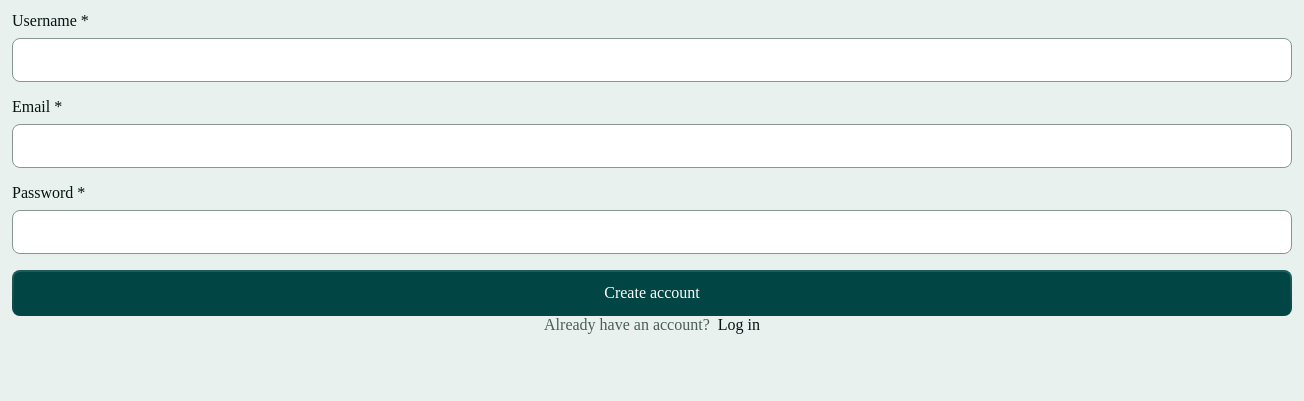
Sign up flow › shows the better auth error message and does not redirect the user
The image size is (1304, 401).
In the field labelled "Username *": x=652, y=60 [12,38,1292,82], type "valid user"
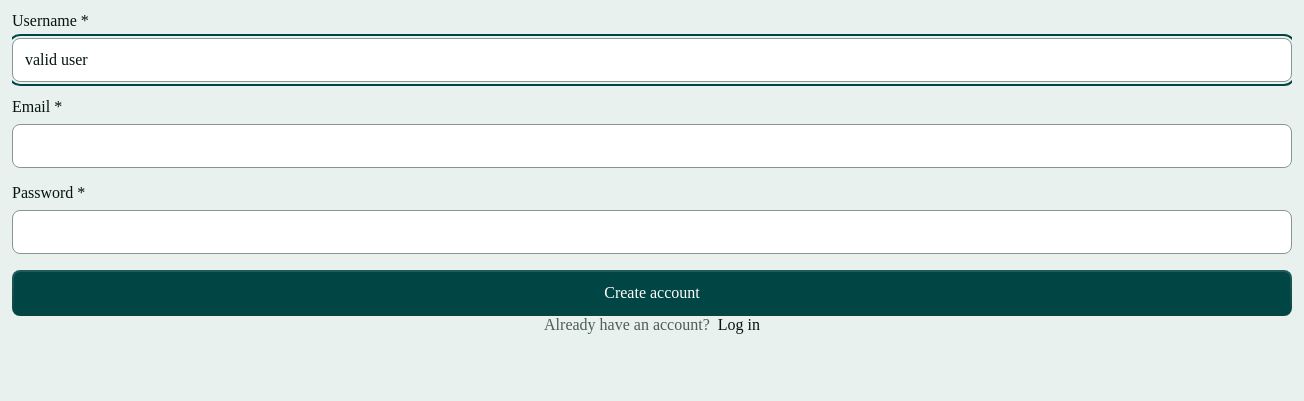
In the field labelled "Email *": x=652, y=146 [12,124,1292,168], type "valid@email.com"
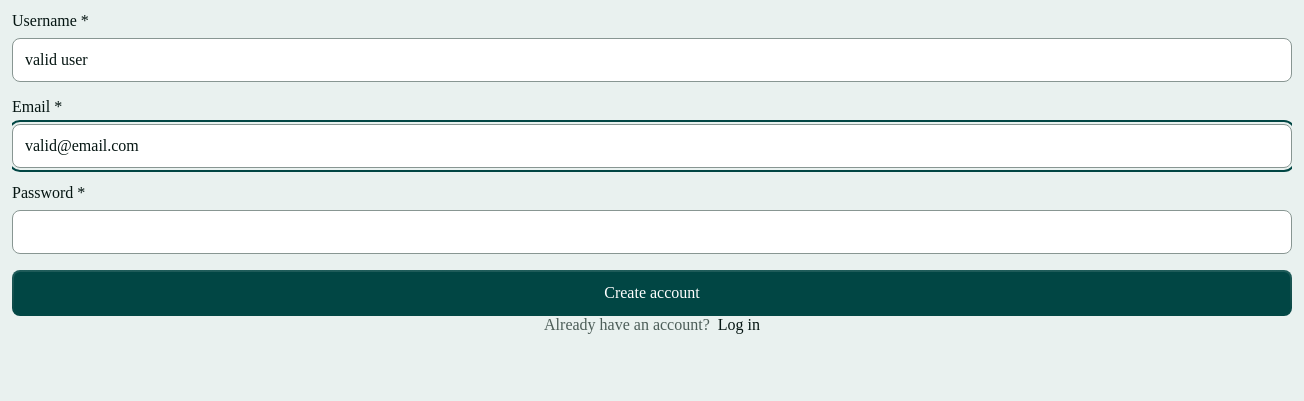
In the password field labelled "Password *": x=652, y=232 [12,210,1292,254], type "ValidPassword123"
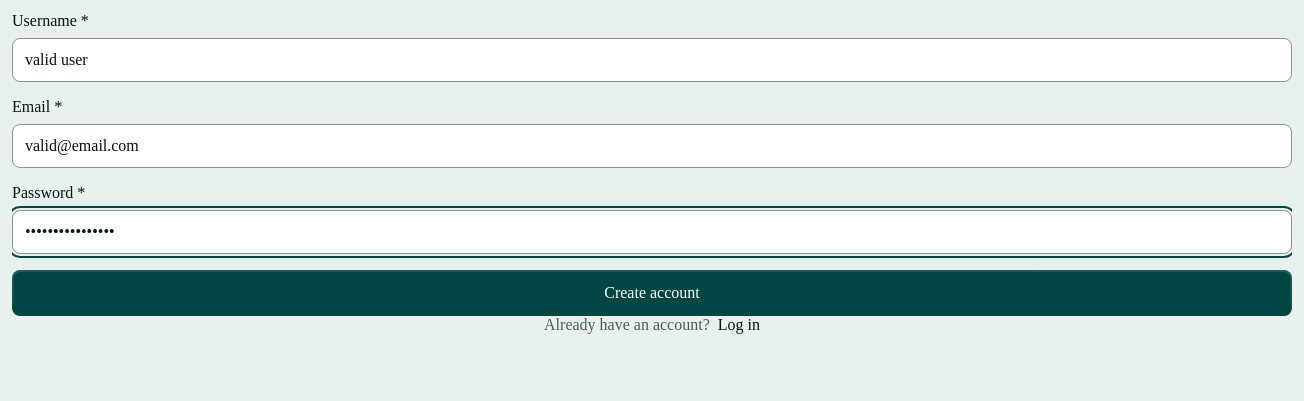
Click the button "Create account": x=652, y=293 [12,270,1292,316]
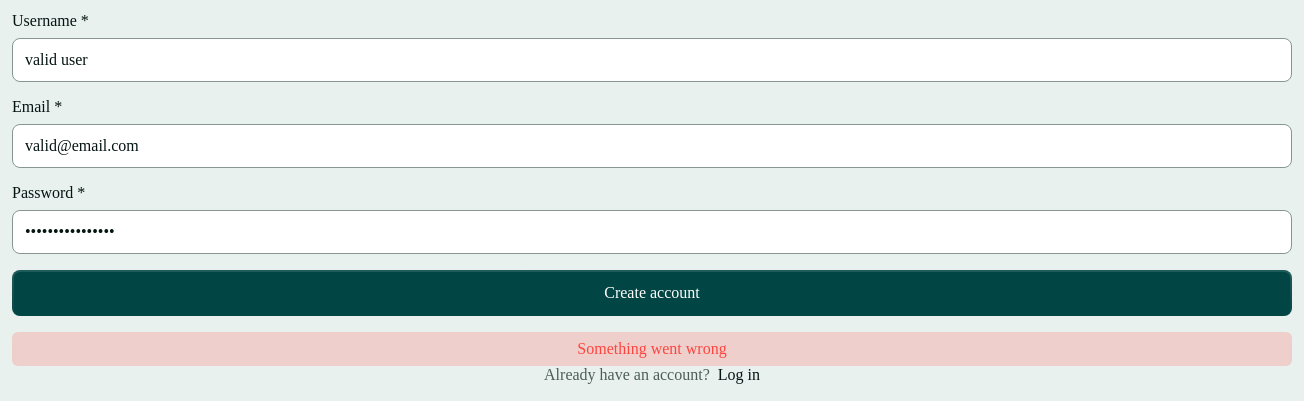
expect the text "Something went wrong" is shown: met, box [12,332,1292,366]
